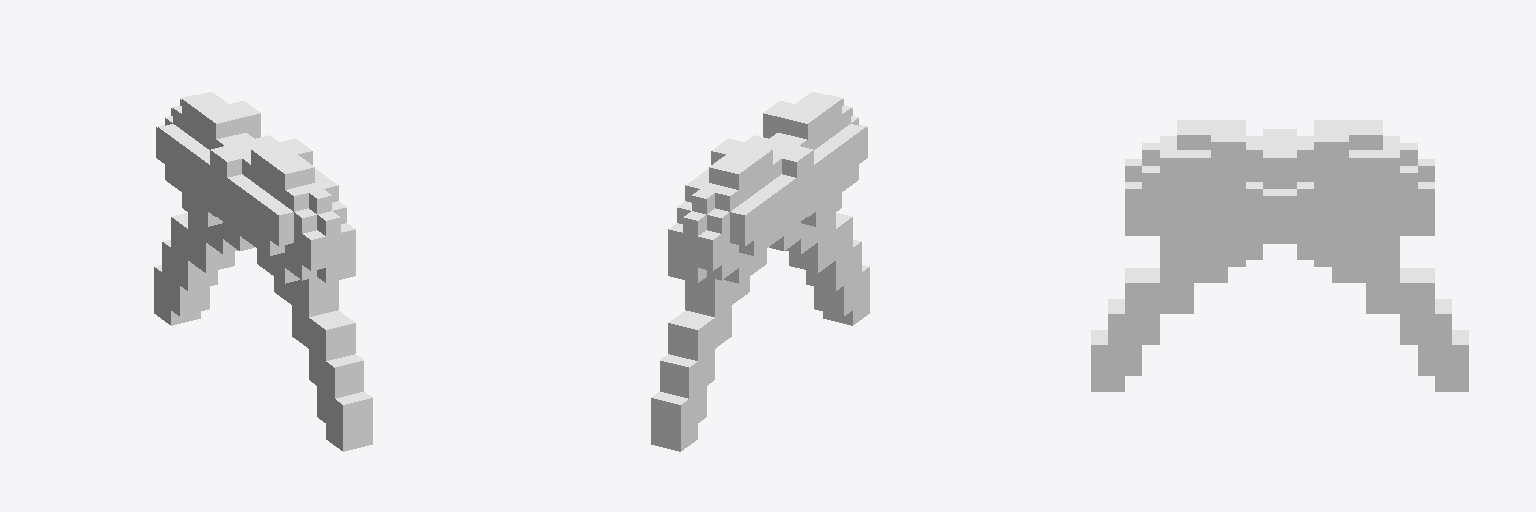
Rendered from kiritan-8-Ribbon.obj.
3 renders of one model, left to right at view 1: azimuth 30°, elevation 25°; view 2: azimuth 150°, elevation 25°; view 3: azimuth 270°, elevation 25°, orthographic.
Parts seen in each view (by area): view 1: Ribbon; view 2: Ribbon; view 3: Ribbon.
Part boxes in pixels (bbox=[...]): Ribbon: bbox=[154, 92, 372, 451]; Ribbon: bbox=[651, 92, 869, 451]; Ribbon: bbox=[1091, 120, 1468, 391].
Bounding box in the file's own units: 0.5 × 1.6 × 2.2.